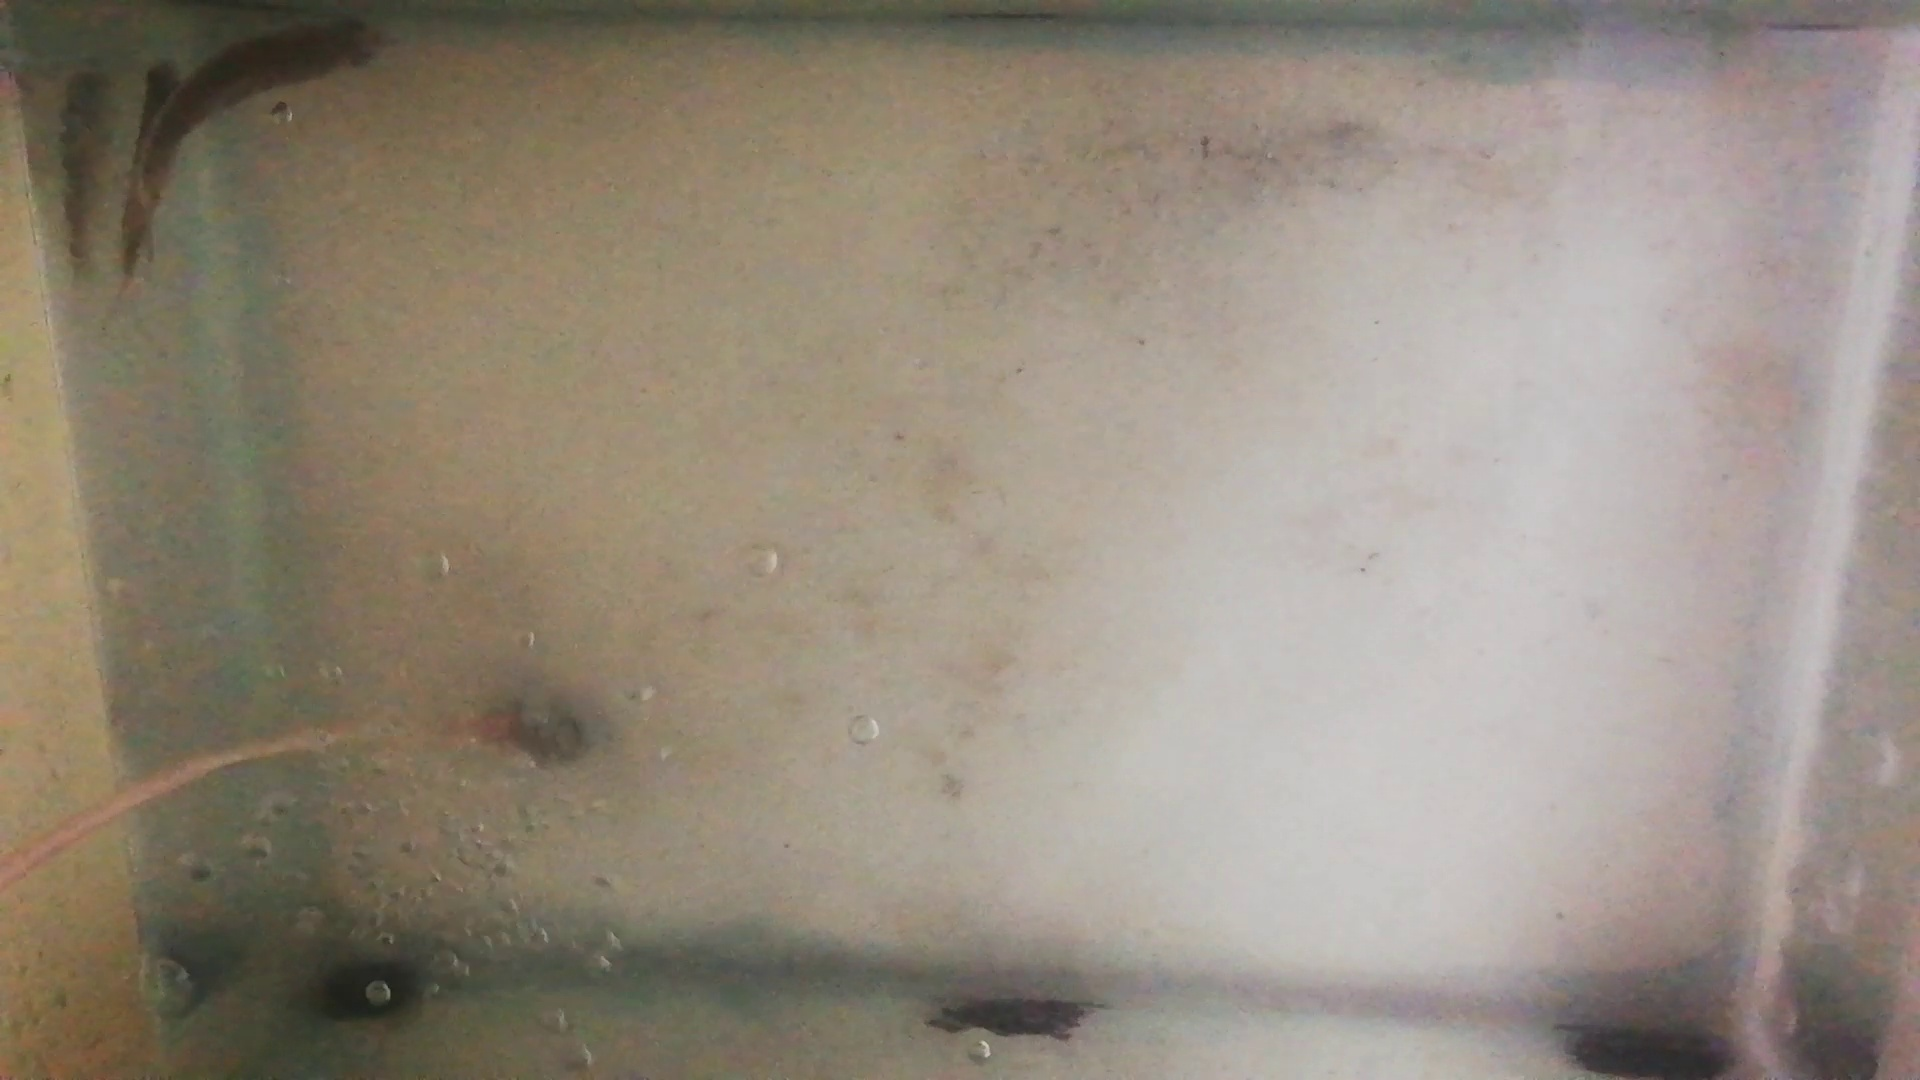fish: (140, 17, 396, 207), (120, 58, 183, 280)
